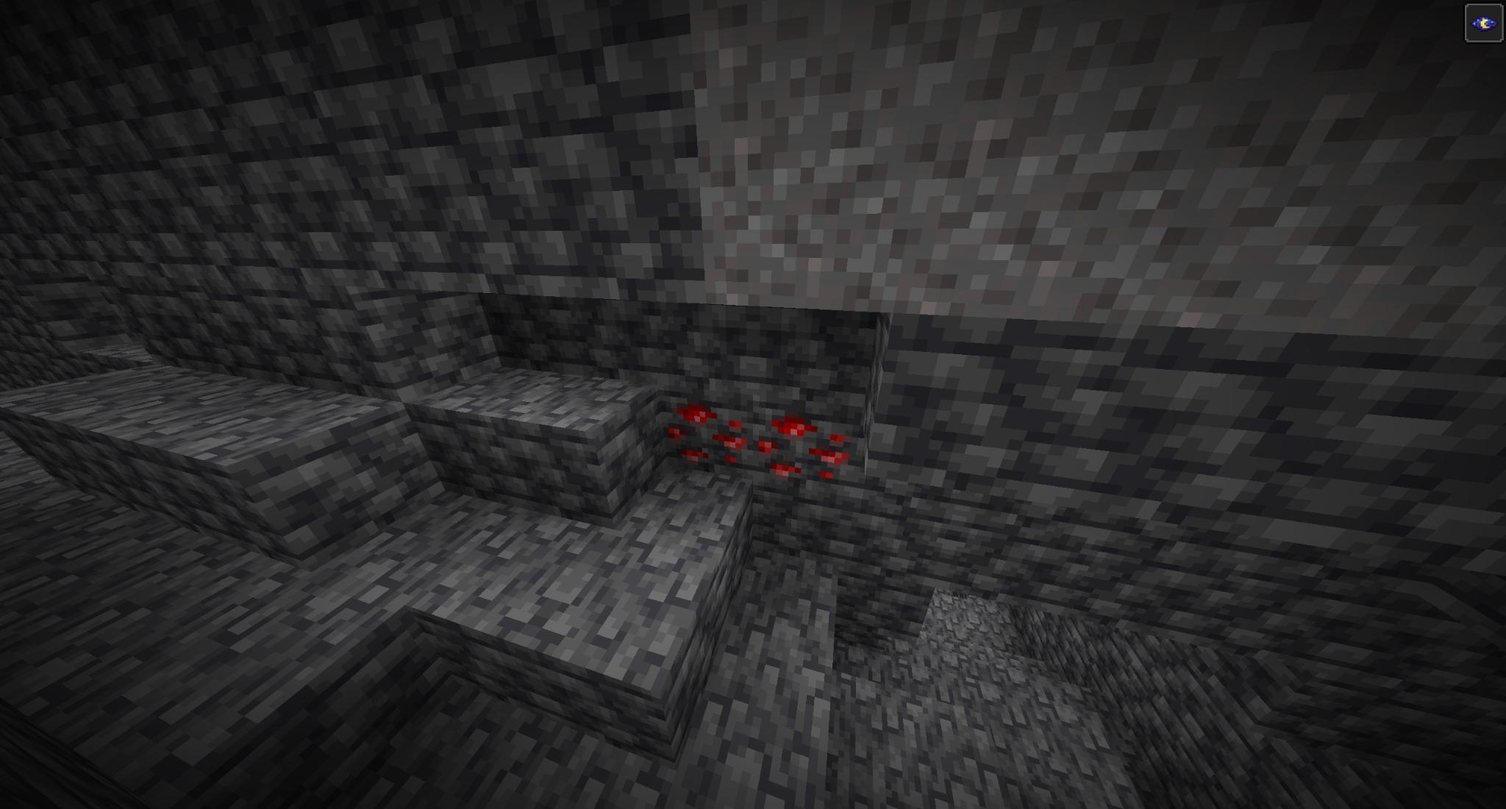redstone ore: (749, 405, 854, 492), (659, 392, 750, 475)
